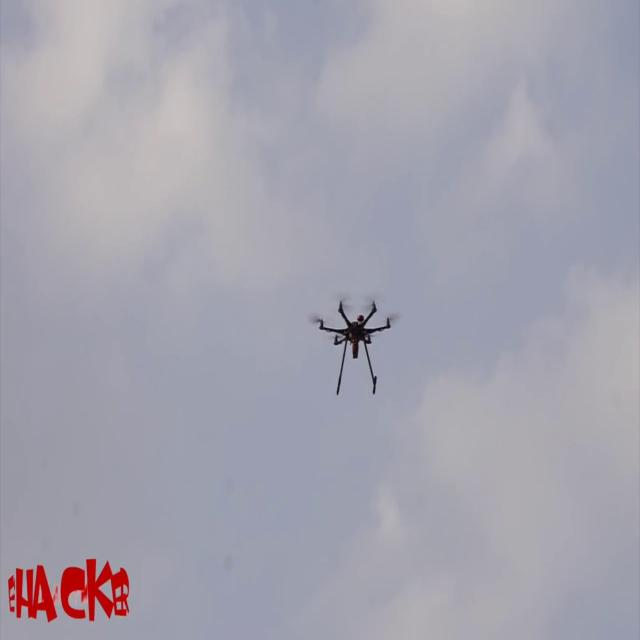drone: (306, 284, 402, 404)
